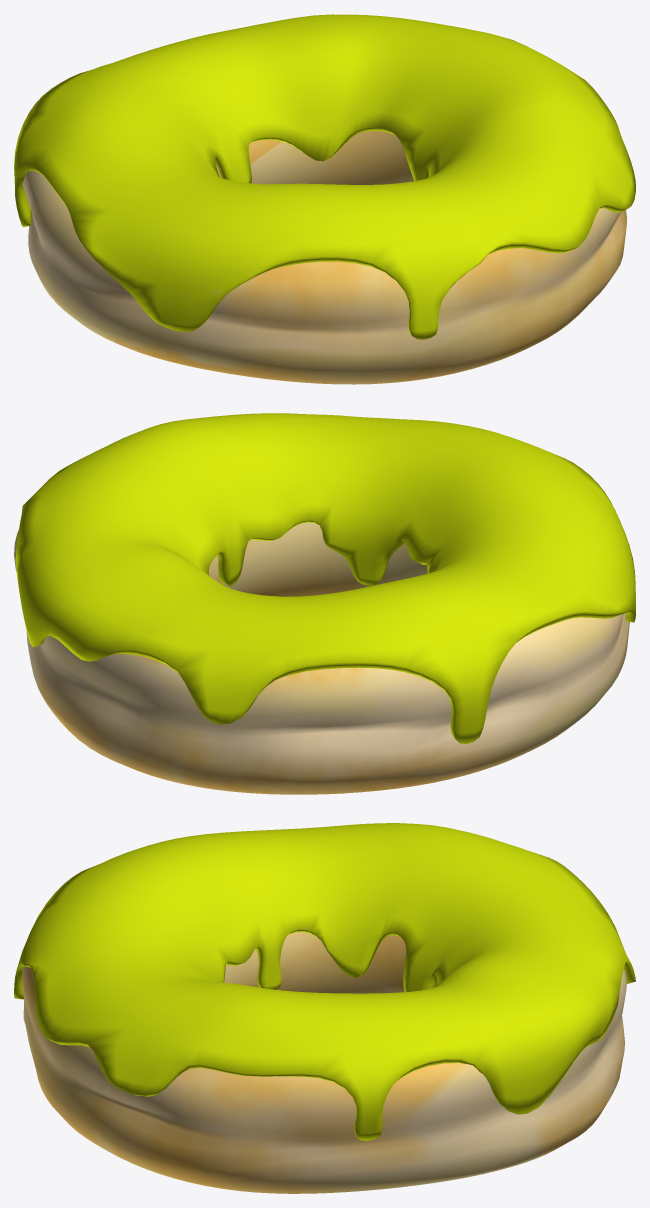
The model's file is donat.glb.
The picture shows the model from 3 angles, top to bottom: view 1: azimuth 30°, elevation 25°; view 2: azimuth 150°, elevation 25°; view 3: azimuth 270°, elevation 25°; orthographic projection. The views are drawn at different scales.
Visible parts, largest first — view 1: icying, donut; view 2: icying, donut; view 3: icying, donut.
Part boxes in pixels (<box>): icying: <box>14,14,635,339</box>; donut: <box>22,131,626,384</box>; icying: <box>15,413,635,744</box>; donut: <box>14,522,630,794</box>; icying: <box>14,823,635,1140</box>; donut: <box>22,932,626,1193</box>.
Size of the model in its own units: 2.79 by 0.9553 by 2.8.
2 materials, 1 textured.
